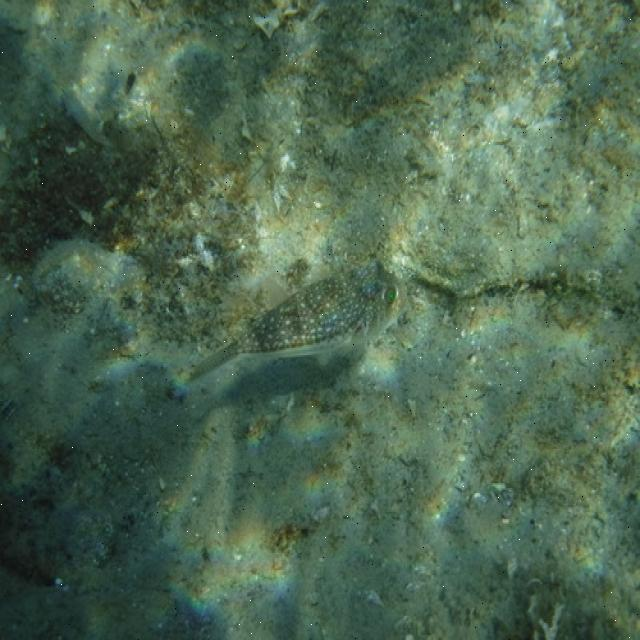Balik: (190, 262, 401, 380)
